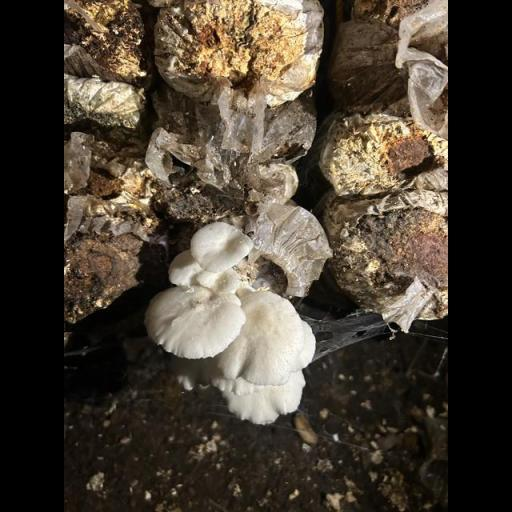White Oyster Mushroom: (144, 216, 318, 425)
